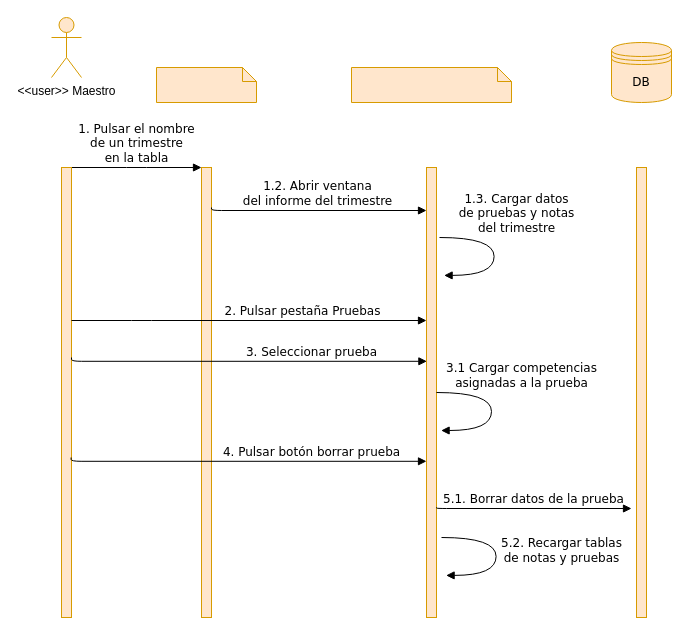
This 689x635 diagram has some shape labels left out. The shapes that lost their labels are listed below. From the top down, each one's centre as x and y in pixels, then its label:
point 206,84: <<system>> MainWindow
point 431,84: <<system>> InformeTrimestreWindow
